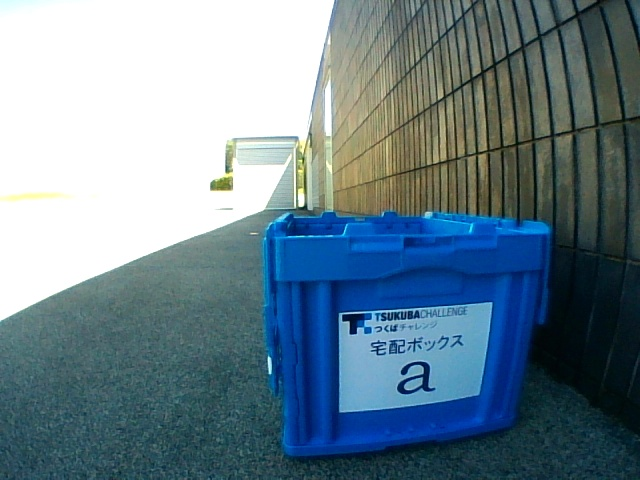blue_box: (263, 211, 553, 458)
tag_a: (348, 317, 461, 397)
